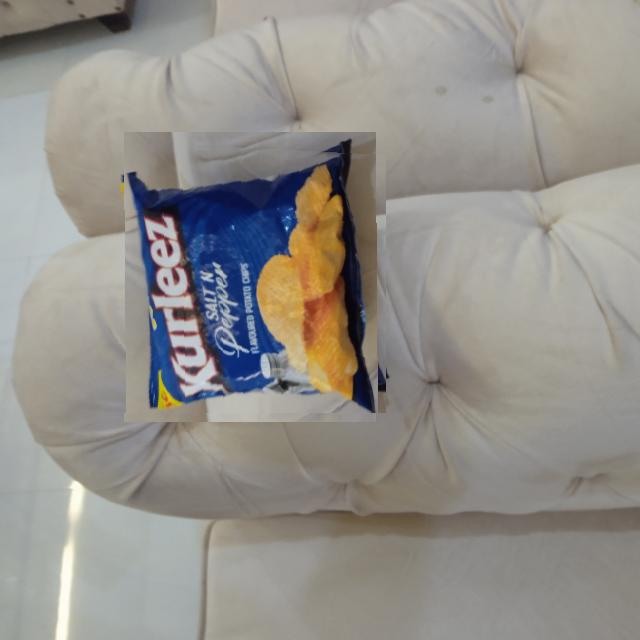Plastic: (115, 141, 386, 413)
